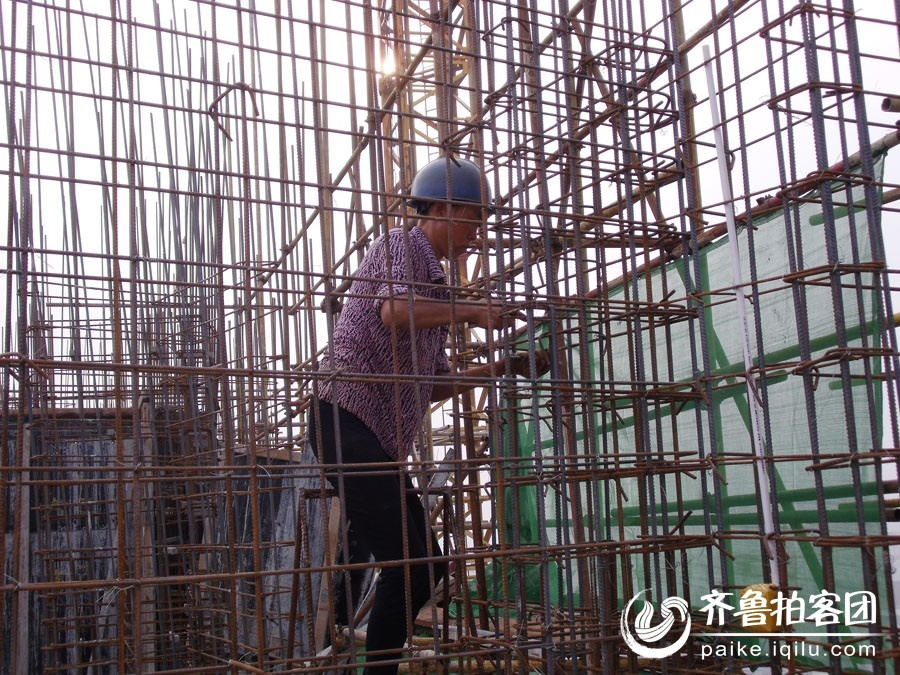blue: (409, 157, 491, 252)
